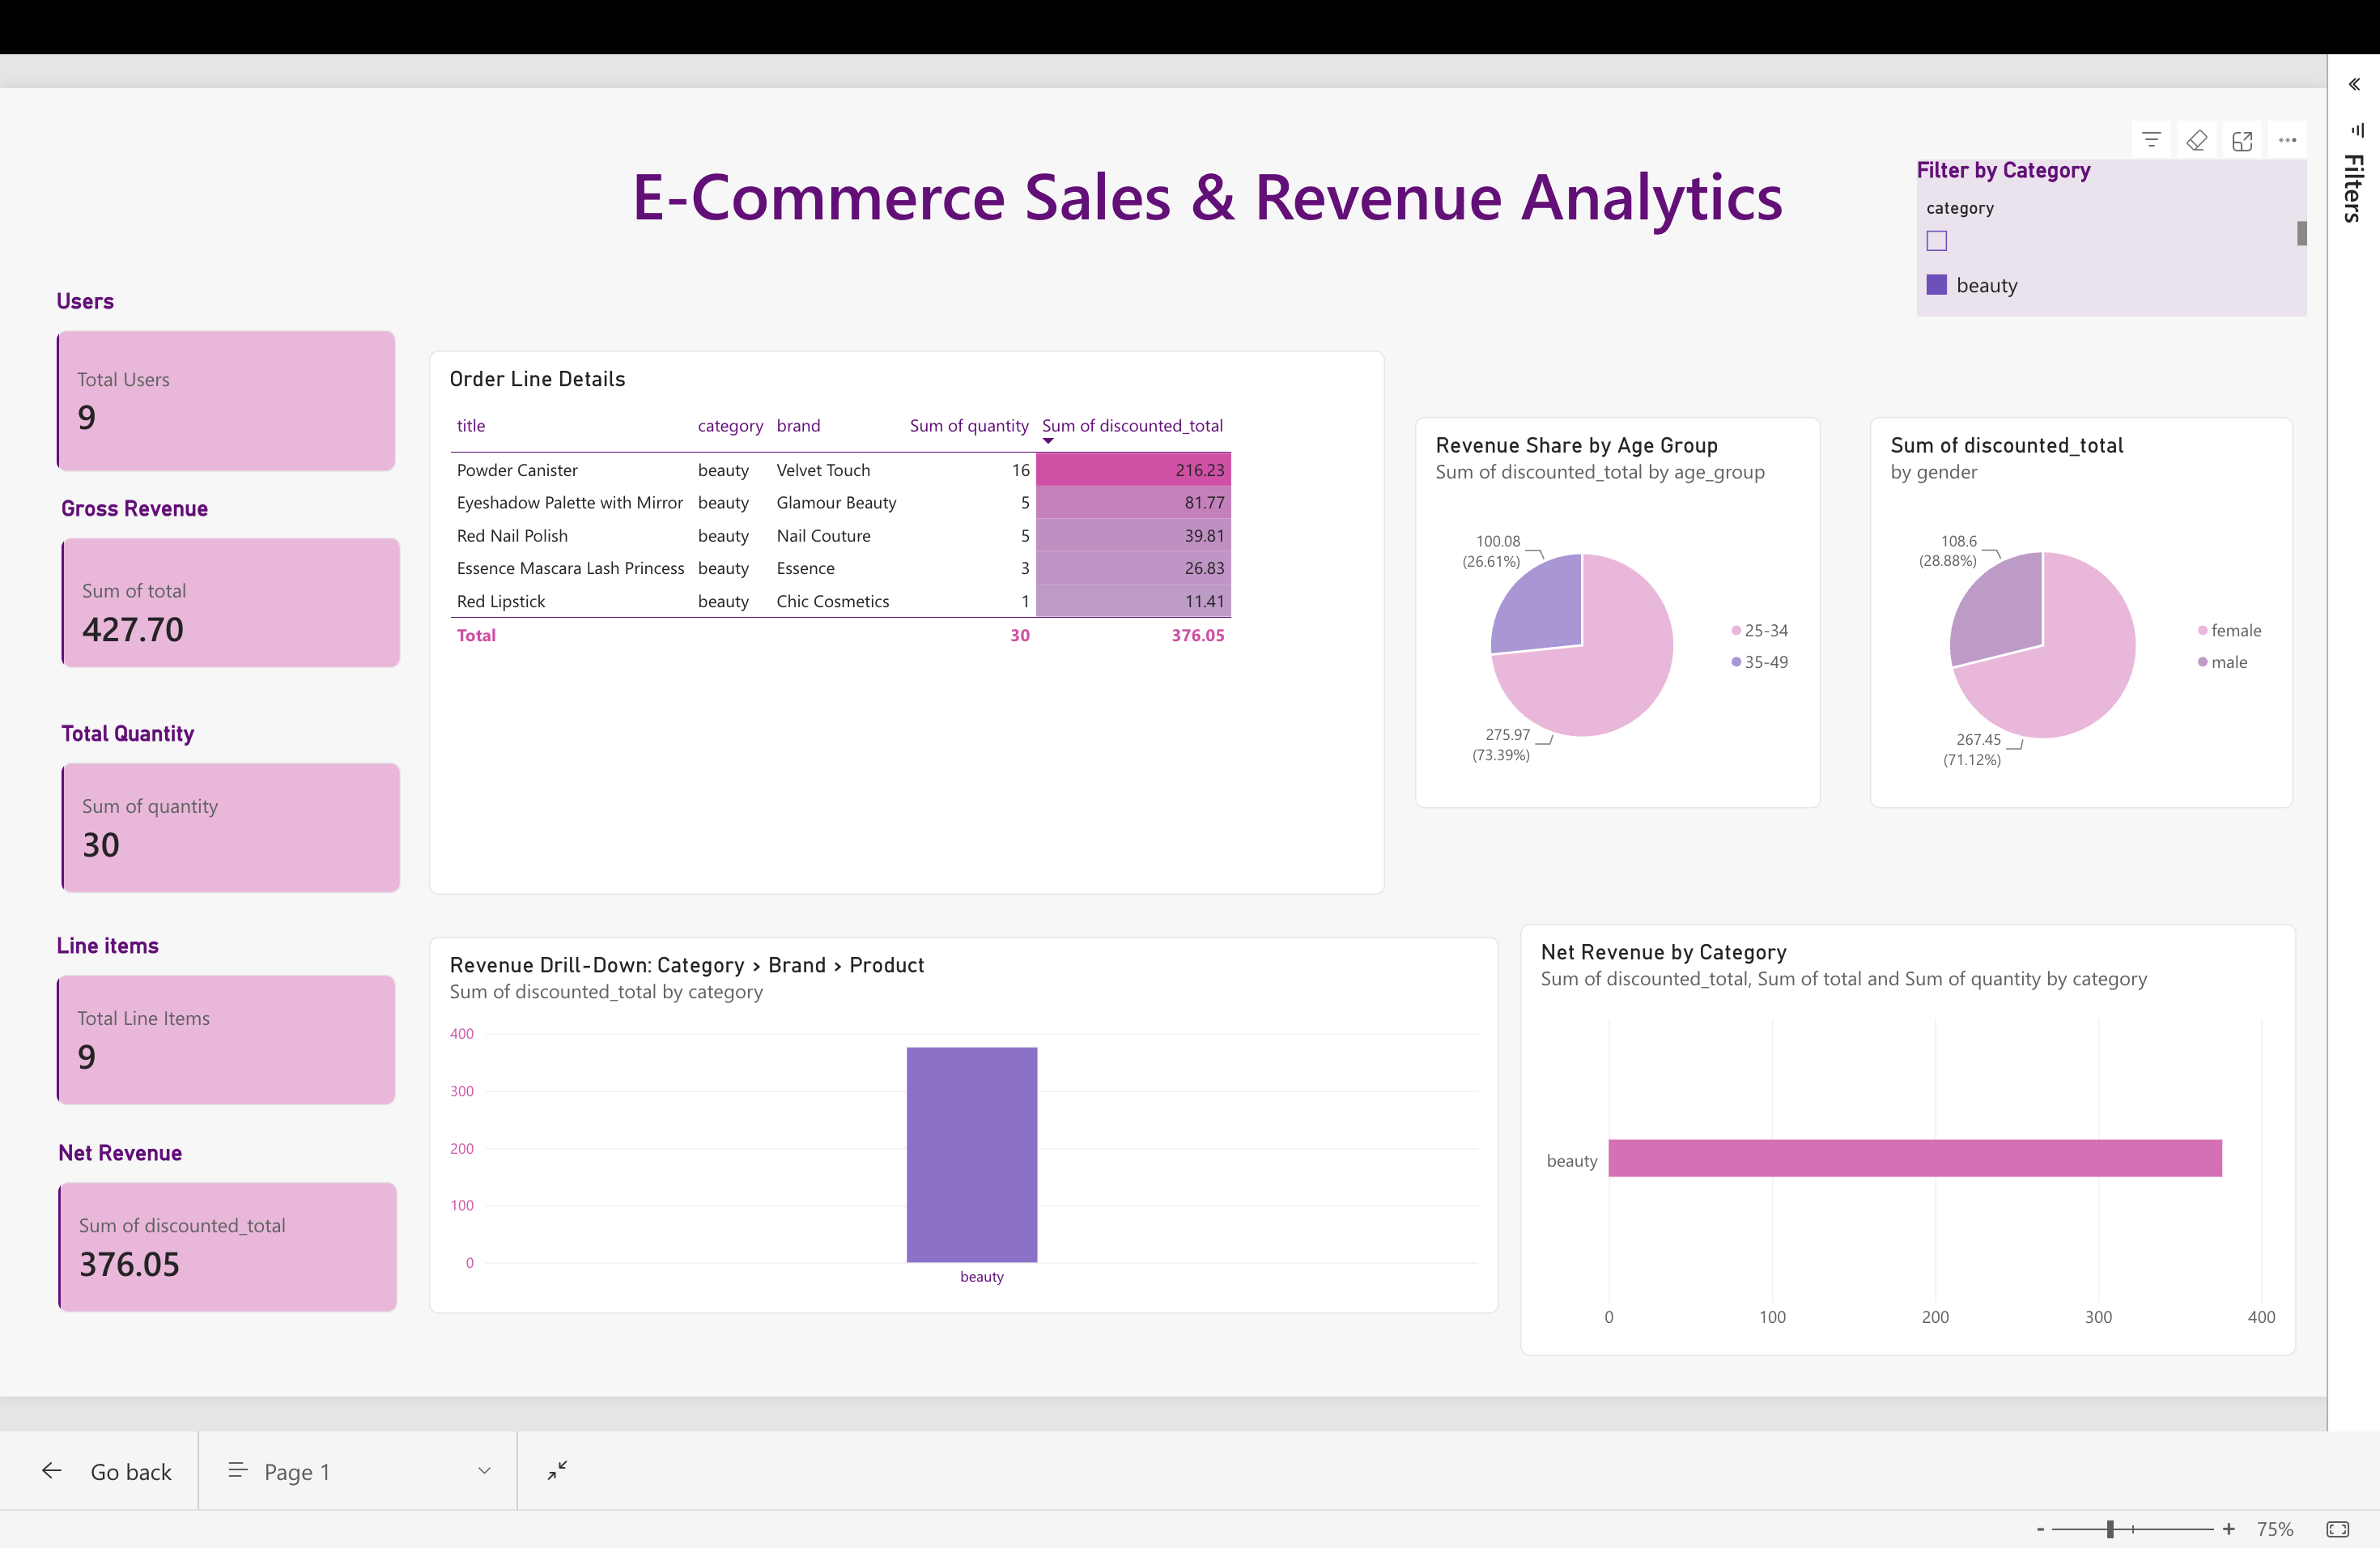

Layout of this report page (visuals, bound fields, positions):
{"tool":"powerbi","page":{"name":"Page 1","canvas":[1920,1080],"ordinal":0},"visuals":[{"type":"cardVisual","title":"Net Revenue","fields":{"Data":["Sum(powerbi_dashboard_data.discounted_total)"]},"box":[47.7,869.4,280.3,141.1],"z":0},{"type":"cardVisual","title":"Gross Revenue","fields":{"Data":["Sum(powerbi_dashboard_data.total)"]},"box":[50.4,337.5,280.3,141.1],"z":1000},{"type":"cardVisual","title":"Total Quantity","fields":{"Data":["Sum(powerbi_dashboard_data.quantity)"]},"box":[50.4,523.6,280.3,141.1],"z":2000},{"type":"cardVisual","title":"Line items","fields":{"Data":["powerbi_dashboard_data.Total Line Items"]},"box":[46.5,698.2,280.3,141.1],"z":3000},{"type":"slicer","title":"Filter by Category","fields":{"Values":["powerbi_dashboard_data.category"]},"box":[1582.5,58.5,322.2,129.7],"z":4000},{"type":"clusteredBarChart","title":"Net Revenue by Category","fields":{"Category":["powerbi_dashboard_data.category"],"Y":["Sum(powerbi_dashboard_data.discounted_total)"]},"box":[1254.9,689.4,640.6,356.5],"z":5000},{"type":"clusteredColumnChart","title":"Revenue Drill-Down: Category > Brand > Product","fields":{"Category":["powerbi_dashboard_data.category","powerbi_dashboard_data.brand","powerbi_dashboard_data.title"],"Y":["Sum(powerbi_dashboard_data.discounted_total)"]},"box":[354.6,699.7,882.8,310.8],"z":6000},{"type":"pieChart","title":"Revenue Share by Age Group","fields":{"Category":["powerbi_dashboard_data.age_group"],"Y":["Sum(powerbi_dashboard_data.discounted_total)"]},"box":[1167.5,271.9,335,322.8],"z":7000},{"type":"tableEx","title":"Order Line Details","fields":{"Values":["powerbi_dashboard_data.title","powerbi_dashboard_data.category","powerbi_dashboard_data.brand","Sum(powerbi_dashboard_data.quantity)","Sum(powerbi_dashboard_data.discounted_total)"]},"box":[354.4,216,788.9,449.1],"z":8000},{"type":"textbox","box":[440.4,51.2,1105.6,144.4],"z":9000},{"type":"cardVisual","title":"Users","fields":{"Data":["powerbi_dashboard_data.Total Users"]},"box":[46.1,167.5,280,150],"z":10000},{"type":"pieChart","fields":{"Category":["powerbi_dashboard_data.gender"],"Y":["Sum(powerbi_dashboard_data.discounted_total)"]},"box":[1543.8,271.9,349.5,322.8],"z":11000}]}

Visuals, with their boxes on the page's 1920x1080 design canvas (x1, y1, x2, y2). These are canvas units, not pixel positions in the 2380x1548 screenshot, which may show the page scaled, cropped or inside an application window:
"Net Revenue" cardVisual: select_region(48, 869, 328, 1010)
"Gross Revenue" cardVisual: select_region(50, 338, 331, 479)
"Total Quantity" cardVisual: select_region(50, 524, 331, 665)
"Line items" cardVisual: select_region(46, 698, 327, 839)
"Filter by Category" slicer: select_region(1582, 58, 1905, 188)
"Net Revenue by Category" clusteredBarChart: select_region(1255, 689, 1896, 1046)
"Revenue Drill-Down: Category > Brand > Product" clusteredColumnChart: select_region(355, 700, 1237, 1010)
"Revenue Share by Age Group" pieChart: select_region(1168, 272, 1502, 595)
"Order Line Details" tableEx: select_region(354, 216, 1143, 665)
textbox: select_region(440, 51, 1546, 196)
"Users" cardVisual: select_region(46, 168, 326, 318)
pieChart - powerbi_dashboard_data.gender x Sum(powerbi_dashboard_data.discounted_total): select_region(1544, 272, 1893, 595)
